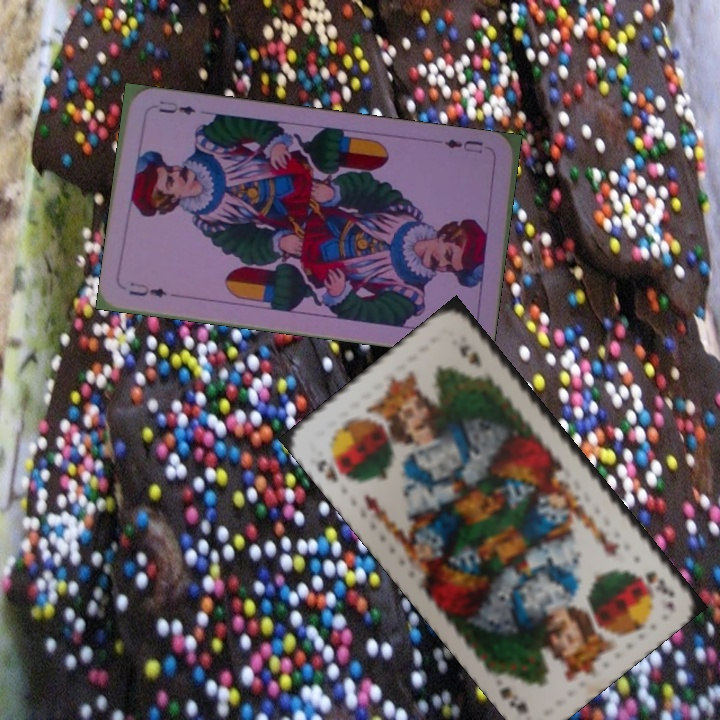EU: (435, 134, 485, 156), (124, 278, 169, 300)
SK: (312, 452, 356, 486), (640, 566, 677, 601)
